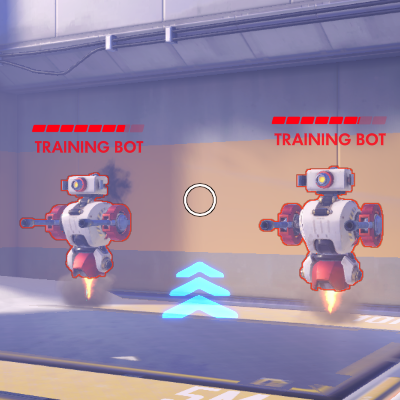hpbar: (271, 116, 387, 125), (31, 124, 145, 133)
